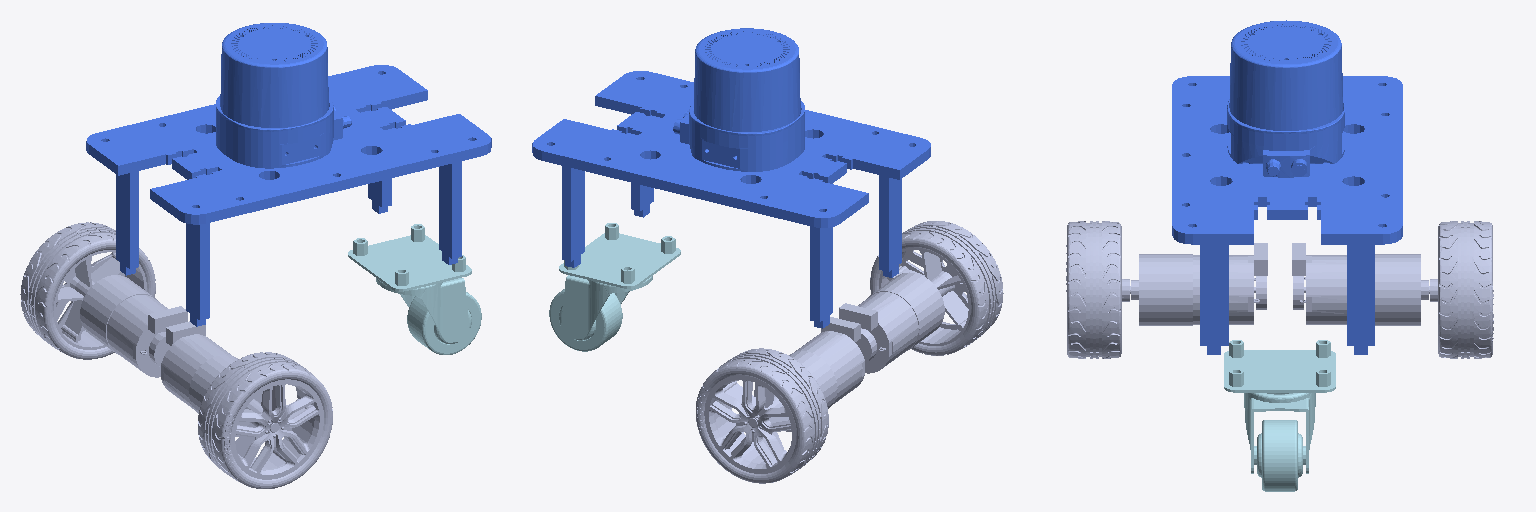
The robot description file, URDF, robot "robot_description":
<?xml version="1.0" encoding="utf-8"?>
<!-- This URDF was automatically created by SolidWorks to URDF Exporter! Originally created by Stephen Brawner (brawner@gmail.com) 
     Commit Version: 1.6.0-4-g7f85cfe  Build Version: 1.6.7995.38578
     For more information, please see http://wiki.ros.org/sw_urdf_exporter -->
<robot
  name="robot_description">

  <!-- <link name="base_footprint">
  </link>

  <joint name="base_footprint_joint" type="fixed">
    <parent link="base_footprint"/>
    <child link="base_link"/>
    <origin xyz="0 0 0.05" rpy="0 0 0"/>
  </joint> -->

  <link
    name="base_link">
    <inertial>
      <origin
        xyz="2.6248E-14 2.3583E-14 -0.0015"
        rpy="0 0 0" />
      <mass
        value="0.039002" />
      <inertia
        ixx="3.2716E-05"
        ixy="-2.1462E-13"
        ixz="-2.6887E-20"
        iyy="6.7767E-05"
        iyz="1.2261E-20"
        izz="0.00010042" />
    </inertial>
    <visual>
      <origin
        xyz="0 0 0"
        rpy="0 0 0" />
      <geometry>
        <mesh
          filename="package://robot_description/meshes/base_link.STL" />
      </geometry>
      <material
        name="">
        <color
          rgba="0.79216 0.81961 0.93333 1" />
      </material>
    </visual>
    <collision>
      <origin
        xyz="0 0 0"
        rpy="0 0 0" />
      <geometry>
        <mesh
          filename="package://robot_description/meshes/base_link.STL" />
      </geometry>
    </collision>
  </link>
  <link
    name="wheel_left_Link">
    <inertial>
      <origin
        xyz="3.2081E-06 -0.027055 0.00013509"
        rpy="0 0 0" />
      <mass
        value="0.035371" />
      <inertia
        ixx="7.2964E-06"
        ixy="-1.2651E-09"
        ixz="-6.992E-11"
        iyy="7.5055E-06"
        iyz="1.0517E-07"
        izz="7.2459E-06" />
    </inertial>
    <visual>
      <origin
        xyz="0 0 0"
        rpy="0 0 0" />
      <geometry>
        <mesh
          filename="package://robot_description/meshes/wheel_left_Link.STL" />
      </geometry>
      <material
        name="">
        <color
          rgba="0.79216 0.81961 0.93333 1" />
      </material>
    </visual>
    <collision>
      <origin
        xyz="0 0 0"
        rpy="0 0 0" />
      <geometry>
        <mesh
          filename="package://robot_description/meshes/wheel_left_Link.STL" />
      </geometry>
    </collision>
  </link>
  <joint
    name="wheel_left_joint"
    type="continuous">
    <origin
      xyz="-0.048791 0.0715 -0.023"
      rpy="0 0 0" />
    <parent
      link="base_link" />
    <child
      link="wheel_left_Link" />
    <axis
      xyz="0 1 0" />
  </joint>
  <link
    name="wheel_right_Link">
    <inertial>
      <origin
        xyz="-3.2081E-06 0.027055 0.00013509"
        rpy="0 0 0" />
      <mass
        value="0.035371" />
      <inertia
        ixx="7.2964E-06"
        ixy="-1.2651E-09"
        ixz="6.992E-11"
        iyy="7.5055E-06"
        iyz="-1.0517E-07"
        izz="7.2459E-06" />
    </inertial>
    <visual>
      <origin
        xyz="0 0 0"
        rpy="0 0 0" />
      <geometry>
        <mesh
          filename="package://robot_description/meshes/wheel_right_Link.STL" />
      </geometry>
      <material
        name="">
        <color
          rgba="0.79216 0.81961 0.93333 1" />
      </material>
    </visual>
    <collision>
      <origin
        xyz="0 0 0"
        rpy="0 0 0" />
      <geometry>
        <mesh
          filename="package://robot_description/meshes/wheel_right_Link.STL" />
      </geometry>
    </collision>
  </link>
  <joint
    name="wheel_right_joint"
    type="continuous">
    <origin
      xyz="-0.048791 -0.0715 -0.023"
      rpy="0 0 0" />
    <parent
      link="base_link" />
    <child
      link="wheel_right_Link" />
    <axis
      xyz="0 1 0" />
  </joint>
  <link
    name="wheel_universal_Link">
    <inertial>
      <origin
        xyz="-0.0049042 -0.0079528 0.0084569"
        rpy="0 0 0" />
      <mass
        value="0.010932" />
      <inertia
        ixx="1.9746E-06"
        ixy="1.5753E-10"
        ixz="7.6294E-07"
        iyy="2.4635E-06"
        iyz="-2.4685E-10"
        izz="1.3438E-06" />
    </inertial>
    <visual>
      <origin
        xyz="0 0 0"
        rpy="0 0 0" />
      <geometry>
        <mesh
          filename="package://robot_description/meshes/wheel_universal_Link.STL" />
      </geometry>
      <material
        name="">
        <color
          rgba="0.74118 0.90196 0.95686 1" />
      </material>
    </visual>
    <collision>
      <origin
        xyz="0 0 0"
        rpy="0 0 0" />
      <geometry>
        <mesh
          filename="package://robot_description/meshes/wheel_universal_Link.STL" />
      </geometry>
    </collision>
  </link>
  <joint
    name="wheel_universal_joint"
    type="fixed">
    <origin
      xyz="0.063633 0.00795 -0.034"
      rpy="0 0 0" />
    <parent
      link="base_link" />
    <child
      link="wheel_universal_Link" />
    <axis
      xyz="0 0 0" />
  </joint>
  <link
    name="laser_Link">
    <inertial>
      <origin
        xyz="-0.0030189 -0.00020139 -0.019649"
        rpy="0 0 0" />
      <mass
        value="0.094023" />
      <inertia
        ixx="3.4259E-05"
        ixy="-1.2348E-09"
        ixz="-2.1308E-07"
        iyy="5.7727E-05"
        iyz="-8.9097E-10"
        izz="7.5176E-05" />
    </inertial>
    <visual>
      <origin
        xyz="0 0 0"
        rpy="0 0 0" />
      <geometry>
        <mesh
          filename="package://robot_description/meshes/laser_Link.STL" />
      </geometry>
      <material
        name="">
        <color
          rgba="0.37255 0.55686 1 1" />
      </material>
    </visual>
    <collision>
      <origin
        xyz="0 0 0"
        rpy="0 0 0" />
      <geometry>
        <mesh
          filename="package://robot_description/meshes/laser_Link.STL" />
      </geometry>
    </collision>
  </link>
  <joint
    name="laser_joint"
    type="fixed">
    <origin
      xyz="-0.0064435 0.002216 0.078664"
      rpy="0 0 3.1416" />
    <parent
      link="base_link" />
    <child
      link="laser_Link" />
    <axis
      xyz="0 0 0" />
  </joint>
  <link
    name="imu_Link">
    <inertial>
      <origin
        xyz="0 0 0"
        rpy="0 0 0" />
      <mass
        value="0" />
      <inertia
        ixx="0"
        ixy="0"
        ixz="0"
        iyy="0"
        iyz="0"
        izz="0" />
    </inertial>
    <visual>
      <origin
        xyz="0 0 0"
        rpy="0 0 0" />
      <geometry>
        <mesh
          filename="package://robot_description/meshes/imu_Link.STL" />
      </geometry>
      <material
        name="">
        <color
          rgba="1 1 1 1" />
      </material>
    </visual>
    <collision>
      <origin
        xyz="0 0 0"
        rpy="0 0 0" />
      <geometry>
        <mesh
          filename="package://robot_description/meshes/imu_Link.STL" />
      </geometry>
    </collision>
  </link>
  <joint
    name="imu_joint"
    type="fixed">
    <origin
      xyz="0.037033 -0.018447 0.013909"
      rpy="0 0 0" />
    <parent
      link="base_link" />
    <child
      link="imu_Link" />
    <axis
      xyz="0 0 0" />
  </joint>
</robot>

--- What the picture shows (computed from the rendered views, not written in the file) ---
The picture shows the robot from 3 angles, left to right: view 1: azimuth 30°, elevation 25°; view 2: azimuth 150°, elevation 25°; view 3: azimuth 270°, elevation 25°; orthographic projection.
Robot: robot_description — 6 links, 5 joints (2 continuous, 3 fixed); root link base_link; default pose: all joints at 0.
Visible links, largest first — view 1: laser_Link, wheel_right_Link, wheel_left_Link, wheel_universal_Link; view 2: laser_Link, wheel_left_Link, wheel_right_Link, wheel_universal_Link; view 3: laser_Link, wheel_left_Link, wheel_right_Link, wheel_universal_Link.
Boxes of the visible links, x1,y1,x2,y2 form: laser_Link: [86, 23, 491, 326]; wheel_right_Link: [161, 321, 332, 488]; wheel_left_Link: [20, 222, 187, 377]; wheel_universal_Link: [348, 224, 481, 354]; laser_Link: [532, 28, 930, 328]; wheel_left_Link: [696, 317, 864, 483]; wheel_right_Link: [839, 221, 1003, 373]; wheel_universal_Link: [549, 223, 680, 351]; laser_Link: [1172, 20, 1402, 354]; wheel_left_Link: [1292, 221, 1493, 358]; wheel_right_Link: [1066, 221, 1267, 358]; wheel_universal_Link: [1224, 340, 1335, 491].
Bounding box of the posed robot: 0.1489 × 0.1483 × 0.1386 m (x, y, z).
Meshes: 6 distinct files referenced, 4 mesh visuals loaded (4 binary STL); not drawn: 2 (reference not matched to a file when rendering).
